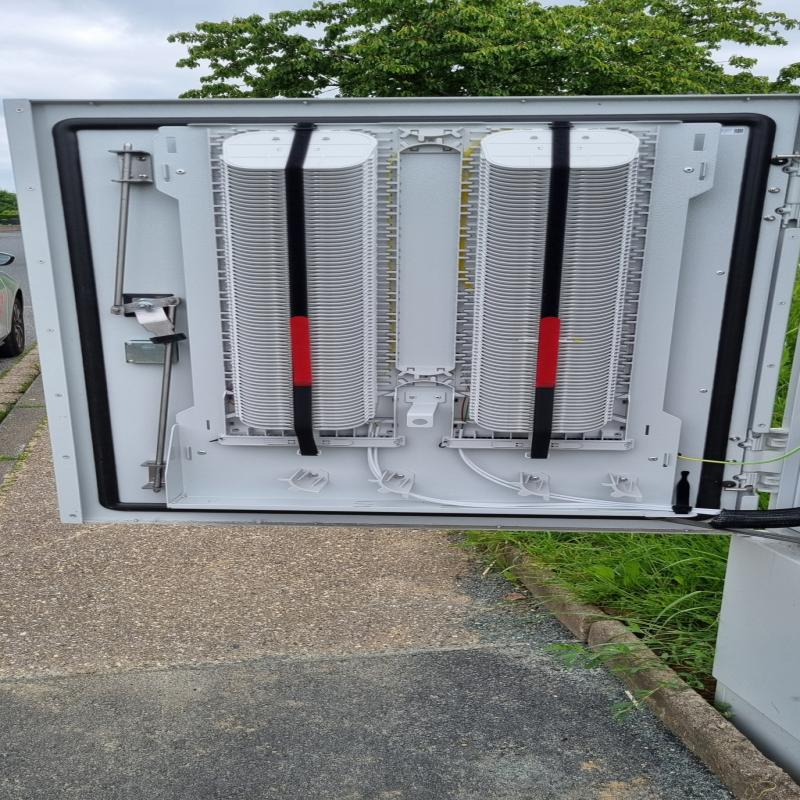NT-Gehause: (9, 94, 797, 772)
Orang-Speednetrohrchen: (434, 128, 658, 452), (193, 123, 403, 444)
